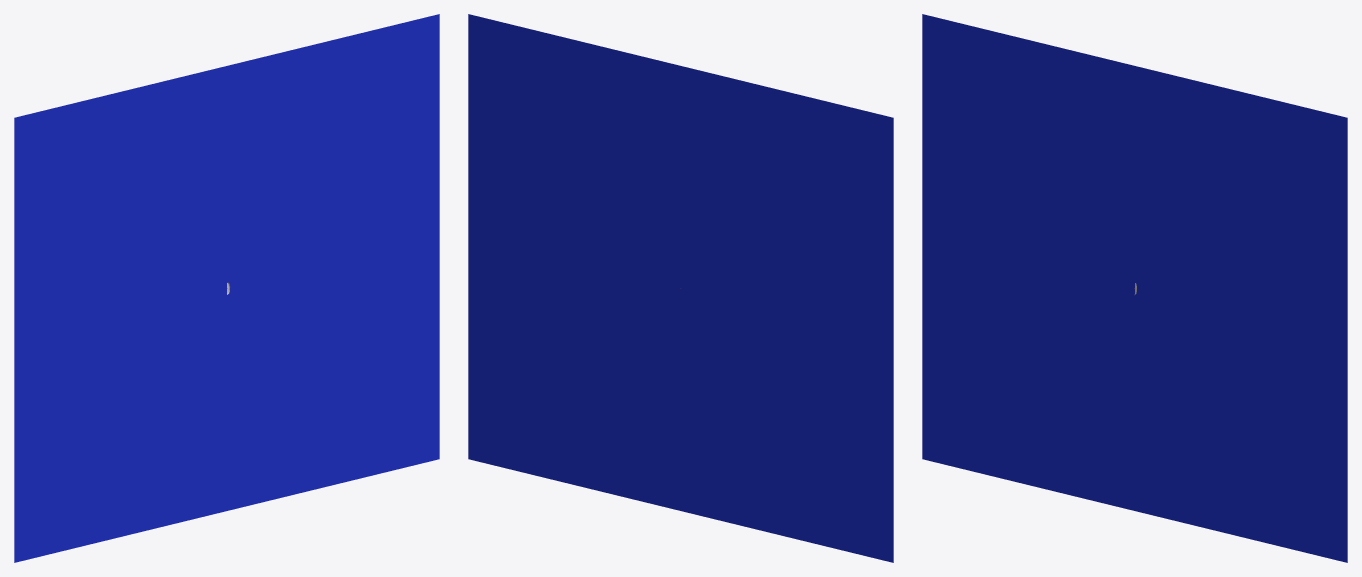
The model's file is boat3.gltf.
3 views of the same model, side by side, from view 1: azimuth 30°, elevation 25°; view 2: azimuth 150°, elevation 25°; view 3: azimuth 330°, elevation 25° (orthographic).
Visible parts, largest first — view 1: Plane.003; view 2: Plane.003; view 3: Plane.003.
Part boxes in pixels (x1,y1,x2,y2): Plane.003: [14, 14, 439, 562]; Plane.003: [468, 14, 893, 562]; Plane.003: [922, 14, 1347, 562].
Size of the model in its own units: 200 by 200 by 1.
